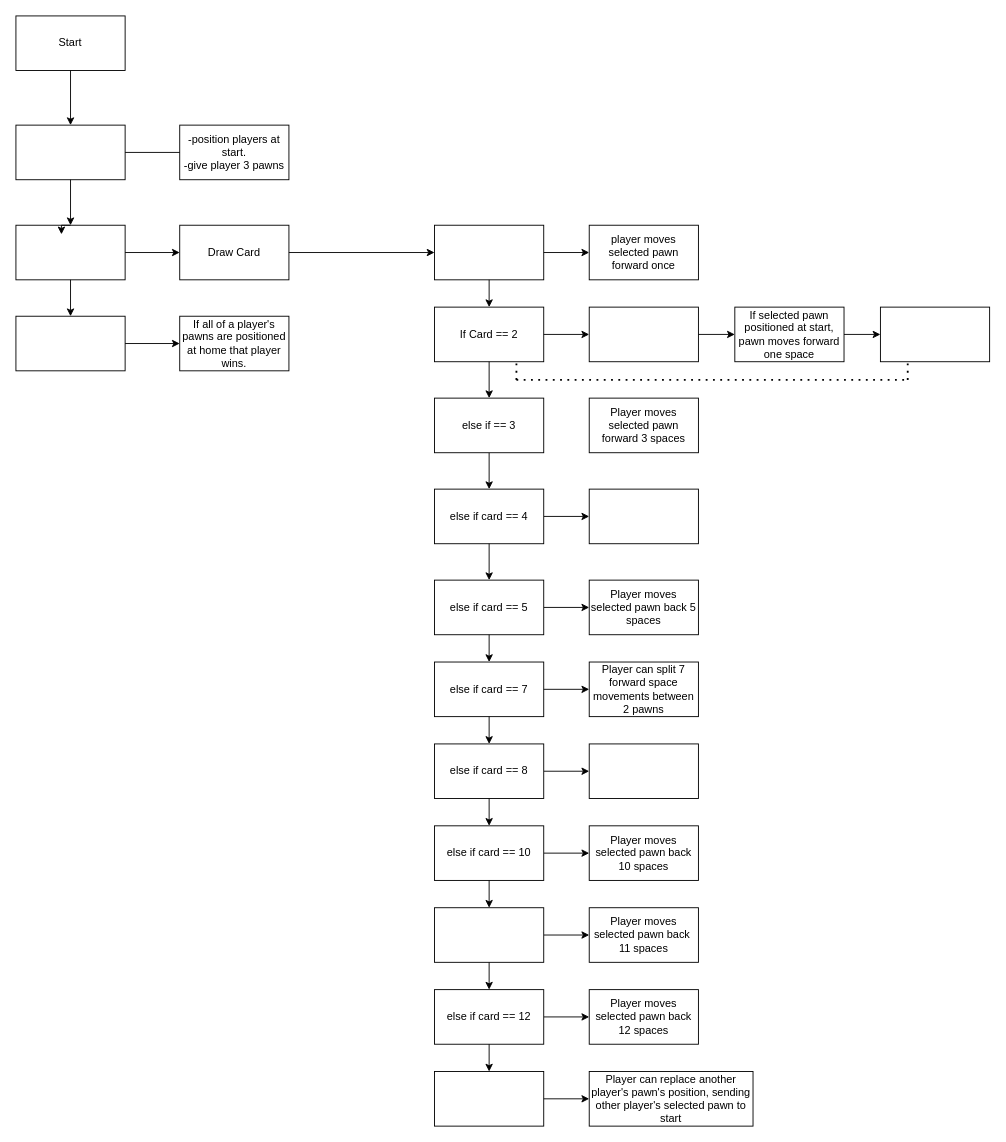
Image size: 1006x1142. Some labels were removed from this diagram. Each missing label, with the centre of its shape:
else if card == " Sorry": (489,1098)
else if card == 11: (489,934)
End: (70,343)
If Card == 1: (489,252)
Initialize players: (70,152)
Player draws again: (935,334)
Player moves selected pawn back 4 spaces: (643,516)
Player moves selected pawn back 8 spaces: (643,771)
player moves selected pawn forward twice: (643,334)
player turn: (70,252)
